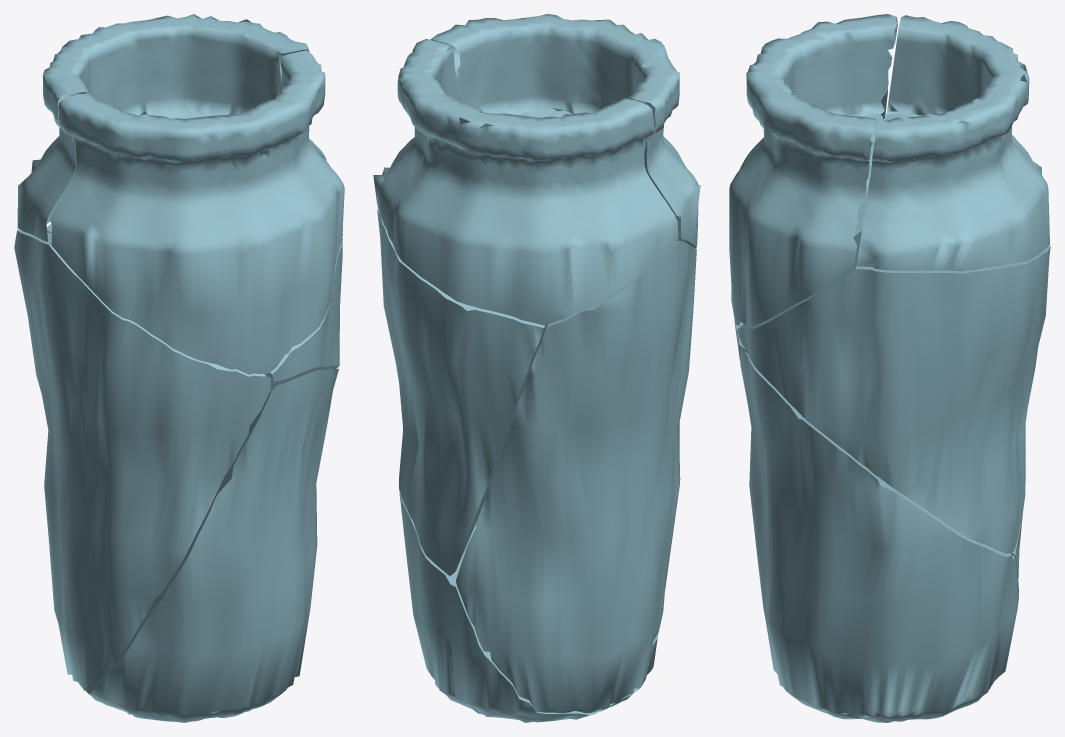
The model's file is vase shards.fbx.
The picture shows the model from 3 angles, left to right: view 1: azimuth 30°, elevation 25°; view 2: azimuth 150°, elevation 25°; view 3: azimuth 270°, elevation 25°; orthographic projection.
Parts seen in each view (by area): view 1: lo_Prop_Vase_A_LOD0.001_cell, lo_Prop_Vase_A_LOD0.001_cell.002, lo_Prop_Vase_A_LOD0.001_cell.003, lo_Prop_Vase_A_LOD0.001_cell.001, lo_Prop_Vase_A_LOD0.001_cell.004; view 2: lo_Prop_Vase_A_LOD0.001_cell.002, lo_Prop_Vase_A_LOD0.001_cell.001, lo_Prop_Vase_A_LOD0.001_cell.004, lo_Prop_Vase_A_LOD0.001_cell, lo_Prop_Vase_A_LOD0.001_cell.003; view 3: lo_Prop_Vase_A_LOD0.001_cell.003, lo_Prop_Vase_A_LOD0.001_cell.004, lo_Prop_Vase_A_LOD0.001_cell.001, lo_Prop_Vase_A_LOD0.001_cell, lo_Prop_Vase_A_LOD0.001_cell.002.
Part boxes in pixels (box(x1,y1,x2,y2)): lo_Prop_Vase_A_LOD0.001_cell: box(50, 50, 344, 374); lo_Prop_Vase_A_LOD0.001_cell.002: box(14, 229, 270, 691); lo_Prop_Vase_A_LOD0.001_cell.003: box(86, 368, 338, 722); lo_Prop_Vase_A_LOD0.001_cell.001: box(17, 14, 326, 241); lo_Prop_Vase_A_LOD0.001_cell.004: box(47, 224, 342, 392); lo_Prop_Vase_A_LOD0.001_cell.002: box(456, 240, 696, 713); lo_Prop_Vase_A_LOD0.001_cell.001: box(373, 39, 678, 325); lo_Prop_Vase_A_LOD0.001_cell.004: box(377, 208, 548, 575); lo_Prop_Vase_A_LOD0.001_cell: box(430, 14, 700, 247); lo_Prop_Vase_A_LOD0.001_cell.003: box(398, 480, 658, 722); lo_Prop_Vase_A_LOD0.001_cell.003: box(740, 347, 1019, 722); lo_Prop_Vase_A_LOD0.001_cell.004: box(737, 230, 1050, 553); lo_Prop_Vase_A_LOD0.001_cell.001: box(856, 15, 1049, 271); lo_Prop_Vase_A_LOD0.001_cell: box(729, 14, 897, 326); lo_Prop_Vase_A_LOD0.001_cell.002: box(734, 178, 1022, 593).
Size of the model in its own units: 25.08 by 52.81 by 25.08.
